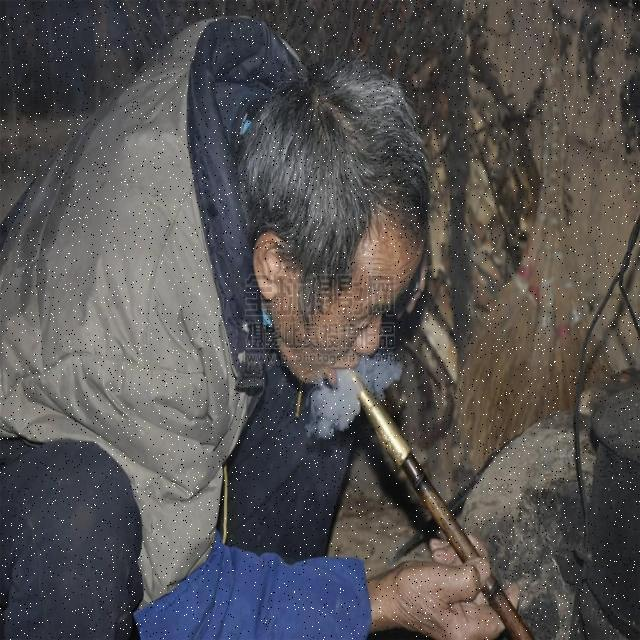smoke: (314, 349, 398, 439)
